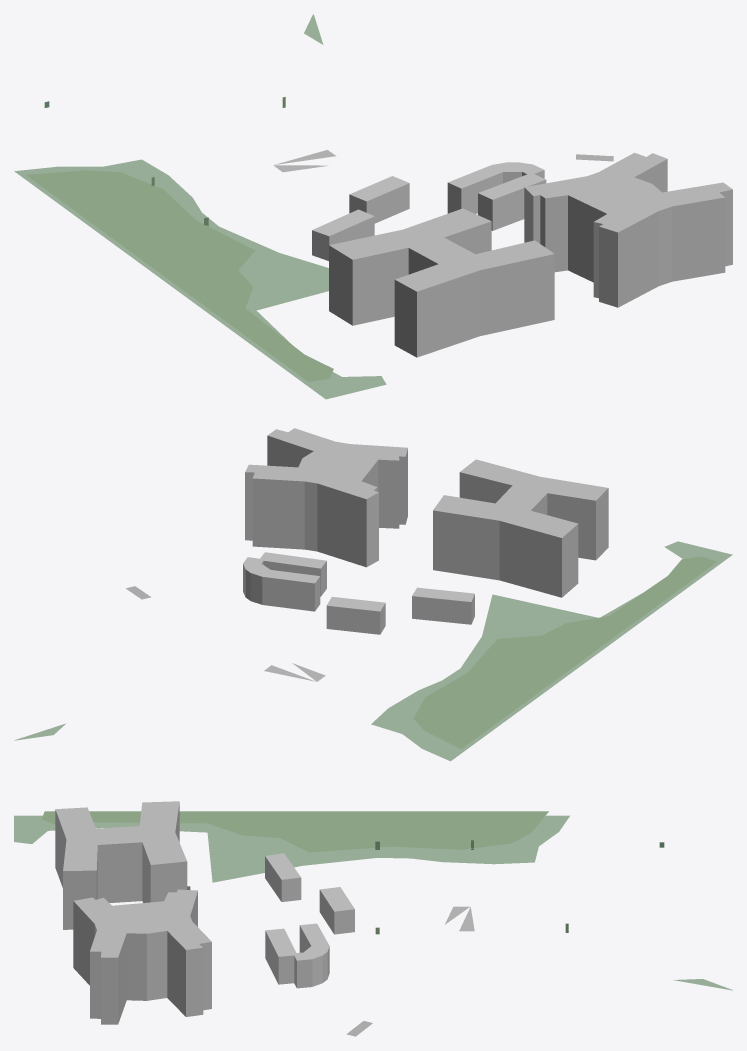
The picture shows the model from 3 angles, top to bottom: view 1: azimuth 30°, elevation 25°; view 2: azimuth 150°, elevation 25°; view 3: azimuth 270°, elevation 25°; orthographic projection. The views are drawn at different scales.
Bounding box in the file's own units: 313 × 48.05 × 455.
